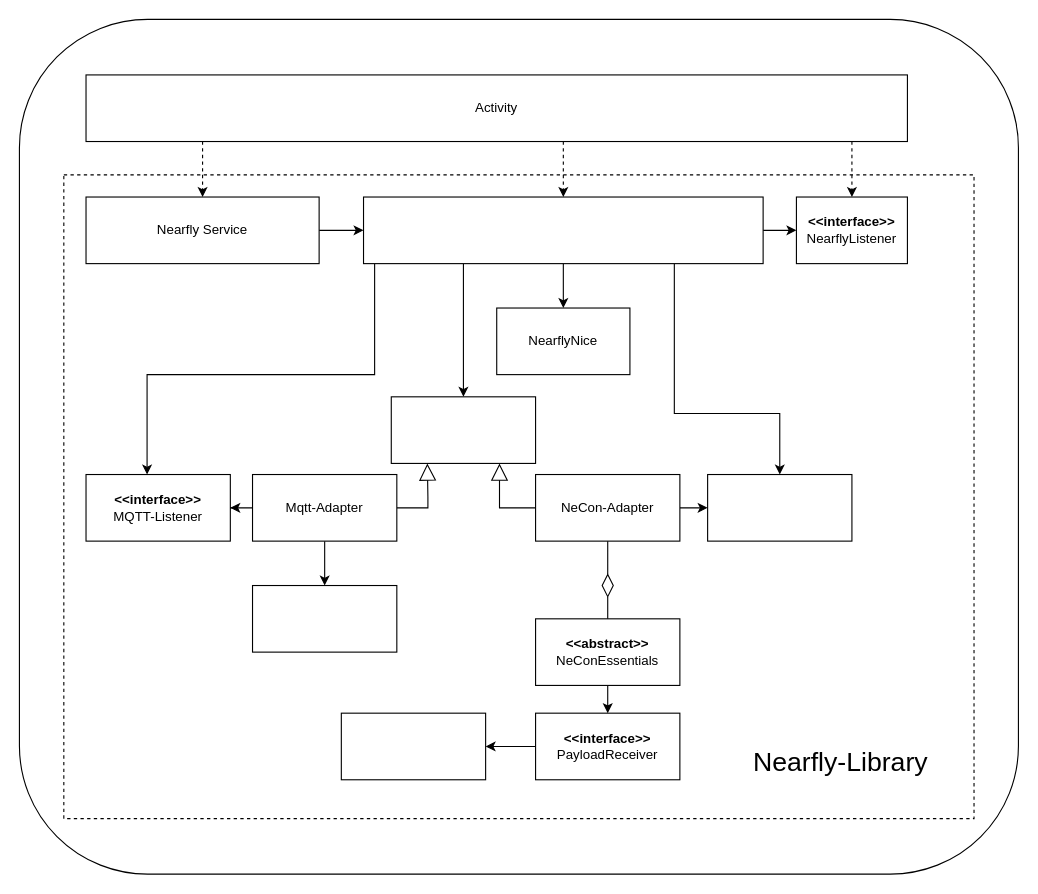
Some shapes in this 1038 by 894 pixel diagram are drawn without their labels. Here are the shapes that lost their labels. From the top down, the centre of each, then its label:
the point at 562,230: Nearfly Client
the point at 463,429: <<interface>> NearflyClient-Target
the point at 779,507: <<interface>> NeConListener
the point at 324,618: MqttMessaging
the point at 413,746: NeConMessage
